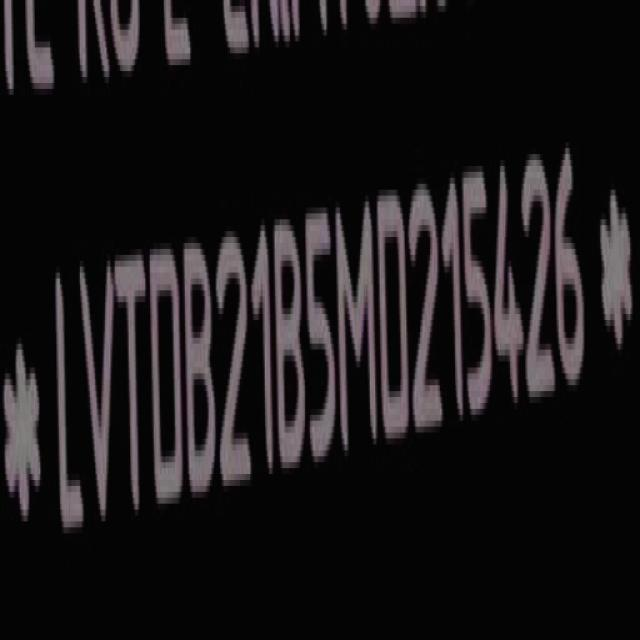1: (442, 167, 462, 441), (256, 225, 276, 488)
2: (218, 234, 253, 501), (412, 185, 444, 448), (524, 145, 555, 414)
4: (495, 152, 525, 422)
5: (305, 198, 339, 471), (464, 159, 494, 432)
6: (553, 144, 587, 396)
B: (188, 238, 219, 512), (276, 214, 305, 485)
D: (149, 241, 183, 518), (381, 182, 414, 460)
L: (50, 261, 79, 544)
M: (339, 193, 379, 466)
T: (118, 244, 148, 534)
V: (77, 250, 118, 538)
